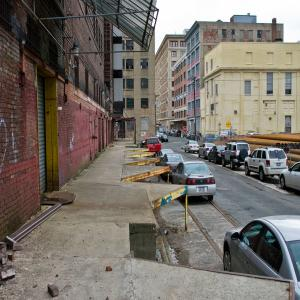Vehicle-registration-plate: (199, 187, 205, 193), (278, 164, 282, 167)
